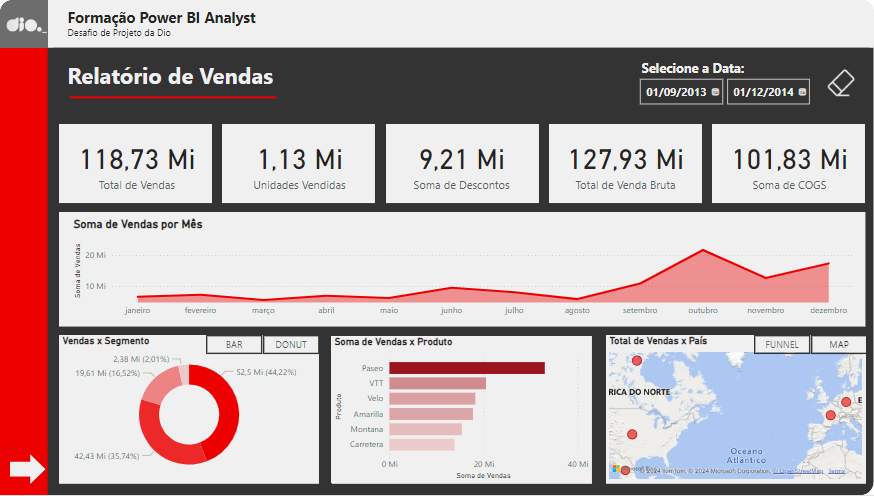

The dashboard page shown, as its layout file describes it:
{"tool":"powerbi","page":{"name":"Página 1","canvas":[1280,720],"ordinal":0},"visuals":[{"type":"shape","box":[8.4,0,1271.1,720.5],"z":0},{"type":"image","title":"Imagem Borracha","box":[1195.4,95.3,72.3,49.2],"z":0,"group":"g2"},{"type":"shape","box":[95,180,222.5,115],"z":0,"group":"g1"},{"type":"clusteredBarChart","title":"Vendas x Segmento","fields":{"Y":["Sum(financials.Vendas)"],"Category":["financials.Segment"]},"box":[95,488.3,378.3,215],"z":0,"group":"g4"},{"type":"shape","box":[22,660,52,44],"z":0,"group":"g3"},{"type":"funnel","title":"Total de Vendas x País","fields":{"Category":["financials.Country"],"Y":["Sum(financials.Vendas)"]},"box":[889.2,487.7,378.5,213.8],"z":125,"group":"g5"},{"type":"actionButton","title":"Botão FUNNEL","box":[1106.1,487.7,81.9,27.7],"z":250,"group":"g5"},{"type":"actionButton","title":"Botão MAP","box":[1188.9,487.8,82.2,27.8],"z":500,"group":"g5"},{"type":"shape","box":[9.3,0,69.6,720],"z":1000},{"type":"slicer","fields":{"Values":["financials.Date"]},"box":[926.2,104.6,270.8,52.3],"z":1000,"group":"g2"},{"type":"shape","box":[332.5,180,222.5,115],"z":1000,"group":"g1"},{"type":"actionButton","box":[14,662,60,40],"z":1000,"group":"g3"},{"type":"shape","box":[9,0,70.1,70.1],"z":2000},{"type":"textbox","box":[937,81.5,220,38.5],"z":2000,"group":"g2"},{"type":"shape","box":[570,180,222.5,115],"z":2000,"group":"g1"},{"type":"actionButton","title":"Botão BAR","box":[309.5,487.7,81.9,27.7],"z":2000,"group":"g4"},{"type":"image","title":"Imagem DIO","box":[13.6,0,68.5,72.3],"z":3000},{"type":"actionButton","box":[1209.3,93.8,46.2,50.8],"z":3000,"group":"g2"},{"type":"shape","box":[807.5,180,222.5,115],"z":3000,"group":"g1"},{"type":"actionButton","title":"Botão DONNUT","box":[392.2,487.8,82.2,27.8],"z":3000,"group":"g4"},{"type":"shape","box":[79,0,1201.9,69.5],"z":4000},{"type":"shape","box":[1045,180,222.5,115],"z":4000,"group":"g1"},{"type":"textbox","box":[101.9,5.7,538.1,58.1],"z":5000},{"type":"group","id":"g1","title":"Cartões","box":[95,180,1172.5,115],"z":6000},{"type":"textbox","box":[102.5,81.2,320,52.5],"z":7000},{"type":"shape","box":[110,126.7,300,30],"z":8000},{"type":"shape","box":[95,308.3,1173.3,166.7],"z":9000},{"type":"shape","box":[890,488.3,378.3,215],"z":10000},{"type":"shape","box":[491.7,488.3,378.3,215],"z":11000},{"type":"shape","box":[95,488.3,378.3,215],"z":12000},{"type":"areaChart","title":"Soma de Vendas por Mês","fields":{"Category":["financials.Date.Variation.Hierarquia de datas.Mês"],"Y":["Sum(financials. Sales)"]},"box":[110,315,1145,153.3],"z":13000},{"type":"card","fields":{"Values":["Sum(financials. Sales)"]},"box":[100,186.7,215,103.3],"z":14000},{"type":"card","fields":{"Values":["Sum(financials.Unidades Vendidas)"]},"box":[336.7,186.7,216.7,103.3],"z":15000},{"type":"card","fields":{"Values":["Sum(financials.Discounts)"]},"box":[571.7,186.7,216.7,103.3],"z":16000},{"type":"card","fields":{"Values":["Sum(financials.Gross Sales)"]},"box":[810,186.7,216.7,103.3],"z":17000},{"type":"card","fields":{"Values":["Sum(financials.COGS)"]},"box":[1048.3,186.7,216.7,103.3],"z":18000},{"type":"clusteredBarChart","title":"Soma de Vendas x Produto","fields":{"Y":["Sum(financials.Vendas)"],"Category":["financials.Product"]},"box":[490.6,488.2,378.8,214.1],"z":19000},{"type":"group","id":"g2","title":"Filtro de Data","box":[926.2,81.5,341.5,75.4],"z":20000},{"type":"group","id":"g3","title":"Botão de Retorno","box":[14,660,60,44],"z":21000},{"type":"group","id":"g4","title":"Vendas por Segmento","box":[95,487.7,379.4,215.6],"z":24000},{"type":"group","id":"g5","title":"Vendas por País","box":[889.2,487.7,381.9,214.7],"z":25000}]}

Visuals, with their boxes in screenshot pixels (x1, y1, x2, y2), scaled from the page's 1280x720 canvas onto the 874x496 screenshot:
shape: (left=6, top=0, right=873, bottom=495)
"Imagem Borracha" image: (left=816, top=66, right=866, bottom=100)
shape: (left=65, top=124, right=217, bottom=203)
"Vendas x Segmento" clusteredBarChart: (left=65, top=336, right=323, bottom=484)
shape: (left=15, top=455, right=51, bottom=485)
"Total de Vendas x País" funnel: (left=607, top=336, right=866, bottom=483)
"Botão FUNNEL" actionButton: (left=755, top=336, right=811, bottom=355)
"Botão MAP" actionButton: (left=812, top=336, right=868, bottom=355)
shape: (left=6, top=0, right=54, bottom=495)
slicer - financials.Date: (left=632, top=72, right=817, bottom=108)
shape: (left=227, top=124, right=379, bottom=203)
actionButton: (left=10, top=456, right=51, bottom=484)
shape: (left=6, top=0, right=54, bottom=48)
textbox: (left=640, top=56, right=790, bottom=83)
shape: (left=389, top=124, right=541, bottom=203)
"Botão BAR" actionButton: (left=211, top=336, right=267, bottom=355)
"Imagem DIO" image: (left=9, top=0, right=56, bottom=50)
actionButton: (left=826, top=65, right=857, bottom=100)
shape: (left=551, top=124, right=703, bottom=203)
"Botão DONNUT" actionButton: (left=268, top=336, right=324, bottom=355)
shape: (left=54, top=0, right=873, bottom=48)
shape: (left=714, top=124, right=865, bottom=203)
textbox: (left=70, top=4, right=437, bottom=44)
"Cartões" group: (left=65, top=124, right=865, bottom=203)
textbox: (left=70, top=56, right=288, bottom=92)
shape: (left=75, top=87, right=280, bottom=108)
shape: (left=65, top=212, right=866, bottom=327)
shape: (left=608, top=336, right=866, bottom=484)
shape: (left=336, top=336, right=594, bottom=484)
shape: (left=65, top=336, right=323, bottom=484)
"Soma de Vendas por Mês" areaChart: (left=75, top=217, right=857, bottom=323)
card - Sum(financials. Sales): (left=68, top=129, right=215, bottom=200)
card - Sum(financials.Unidades Vendidas): (left=230, top=129, right=378, bottom=200)
card - Sum(financials.Discounts): (left=390, top=129, right=538, bottom=200)
card - Sum(financials.Gross Sales): (left=553, top=129, right=701, bottom=200)
card - Sum(financials.COGS): (left=716, top=129, right=864, bottom=200)
"Soma de Vendas x Produto" clusteredBarChart: (left=335, top=336, right=594, bottom=484)
"Filtro de Data" group: (left=632, top=56, right=866, bottom=108)
"Botão de Retorno" group: (left=10, top=455, right=51, bottom=485)
"Vendas por Segmento" group: (left=65, top=336, right=324, bottom=484)
"Vendas por País" group: (left=607, top=336, right=868, bottom=484)
